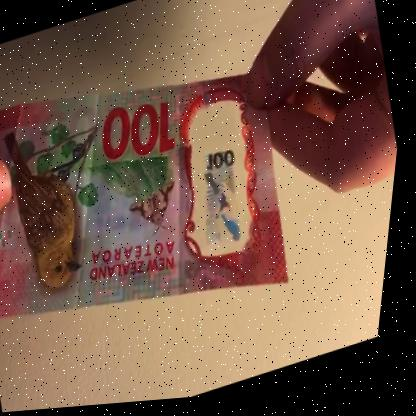100B: (178, 111, 264, 265)
